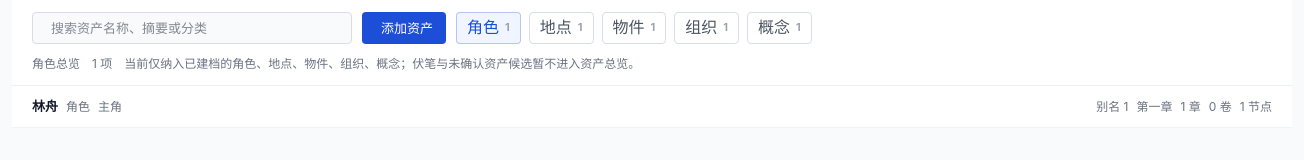
Test case: EncyclopediaView › 展示五分类资产总览并支持切换到组织分类
What coordinates should you click on to do the following:
click the button "组织 1"
I would click on:
 (707, 28)
Its box is [674, 12, 739, 44].
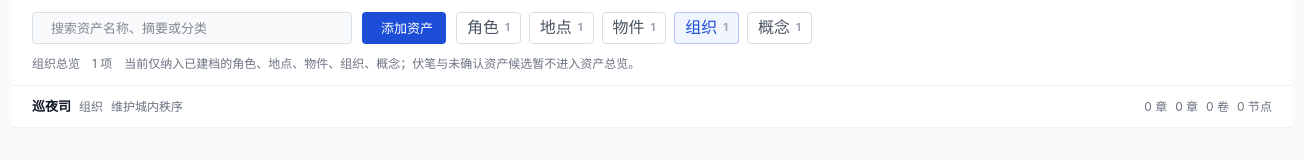
Result: the text "组织总览" is shown at [32, 54, 80, 73]
Result: the text "巡夜司" is shown at [32, 96, 71, 117]
